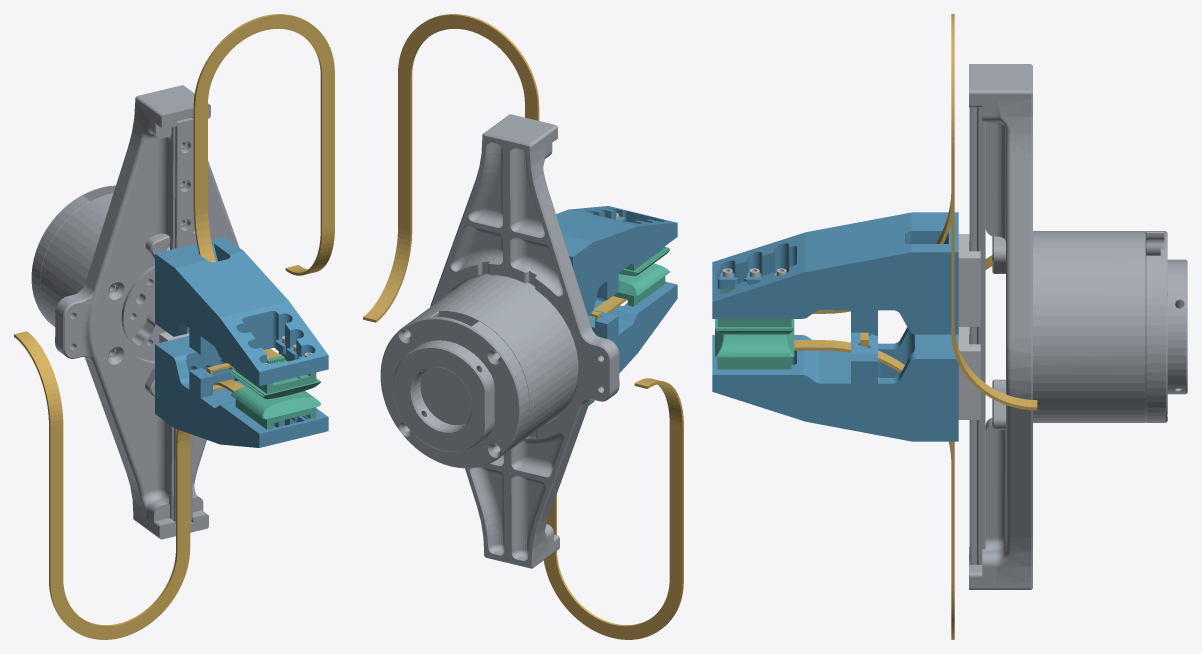
Rendered from assembly_open0.glb.
The picture shows the model from 3 angles, left to right: view 1: azimuth 30°, elevation 25°; view 2: azimuth 150°, elevation 25°; view 3: azimuth 270°, elevation 25°; orthographic projection. The views are drawn at different scales.
Parts seen in each view (by area): view 1: original_actuator_and_transmission, replacement_finger_2, replacement_finger_1, service_loop_envelope_1, service_loop_envelope_2, M2324_1, M2324_2, moving_harness_envelope_2, moving_harness_envelope_1; view 2: original_actuator_and_transmission, replacement_finger_2, service_loop_envelope_2, service_loop_envelope_1, replacement_finger_1, M2324_1, M2324_2; view 3: original_actuator_and_transmission, replacement_finger_2, replacement_finger_1, M2324_1, service_loop_envelope_2, retained_carrier_2, retained_carrier_1, M2324_2, moving_harness_envelope_1, service_loop_envelope_1.
Part boxes in pixels (<box>): original_actuator_and_transmission: <box>31,85,239,539</box>; replacement_finger_2: <box>155,237,328,386</box>; replacement_finger_1: <box>155,336,328,447</box>; service_loop_envelope_1: <box>14,331,190,639</box>; service_loop_envelope_2: <box>193,14,334,275</box>; M2324_1: <box>231,386,321,429</box>; M2324_2: <box>231,351,320,399</box>; moving_harness_envelope_2: <box>193,205,277,356</box>; moving_harness_envelope_1: <box>176,379,244,449</box>; original_actuator_and_transmission: <box>380,114,619,568</box>; replacement_finger_2: <box>556,206,677,315</box>; service_loop_envelope_2: <box>363,14,539,322</box>; service_loop_envelope_1: <box>544,378,683,639</box>; replacement_finger_1: <box>588,281,677,405</box>; M2324_1: <box>613,263,669,306</box>; M2324_2: <box>618,246,670,276</box>; original_actuator_and_transmission: <box>969,64,1187,589</box>; replacement_finger_2: <box>712,212,958,334</box>; replacement_finger_1: <box>712,327,958,441</box>; M2324_1: <box>715,329,794,369</box>; service_loop_envelope_2: <box>951,14,1037,410</box>; retained_carrier_2: <box>958,234,980,326</box>; retained_carrier_1: <box>958,327,980,419</box>; M2324_2: <box>715,289,794,334</box>; moving_harness_envelope_1: <box>794,340,954,464</box>; service_loop_envelope_1: <box>951,255,992,639</box>.
Bounding box in the file's own units: 0.1152 × 0.2266 × 0.1412.
